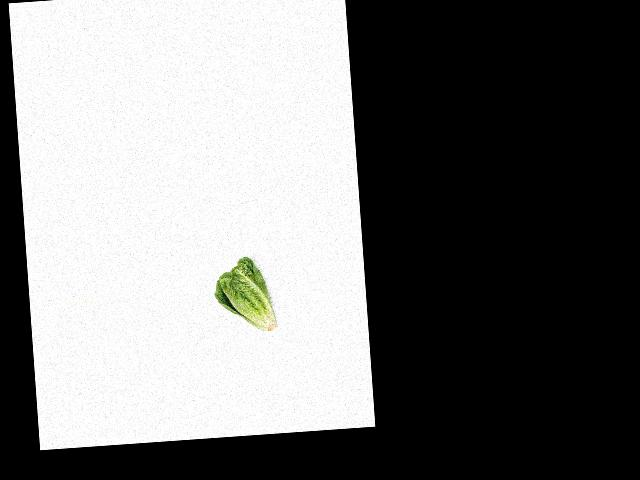lettuce: (212, 255, 278, 335)
